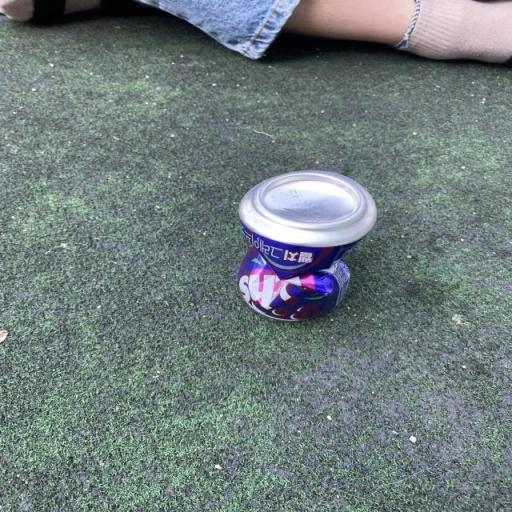metal: (207, 157, 389, 334)
